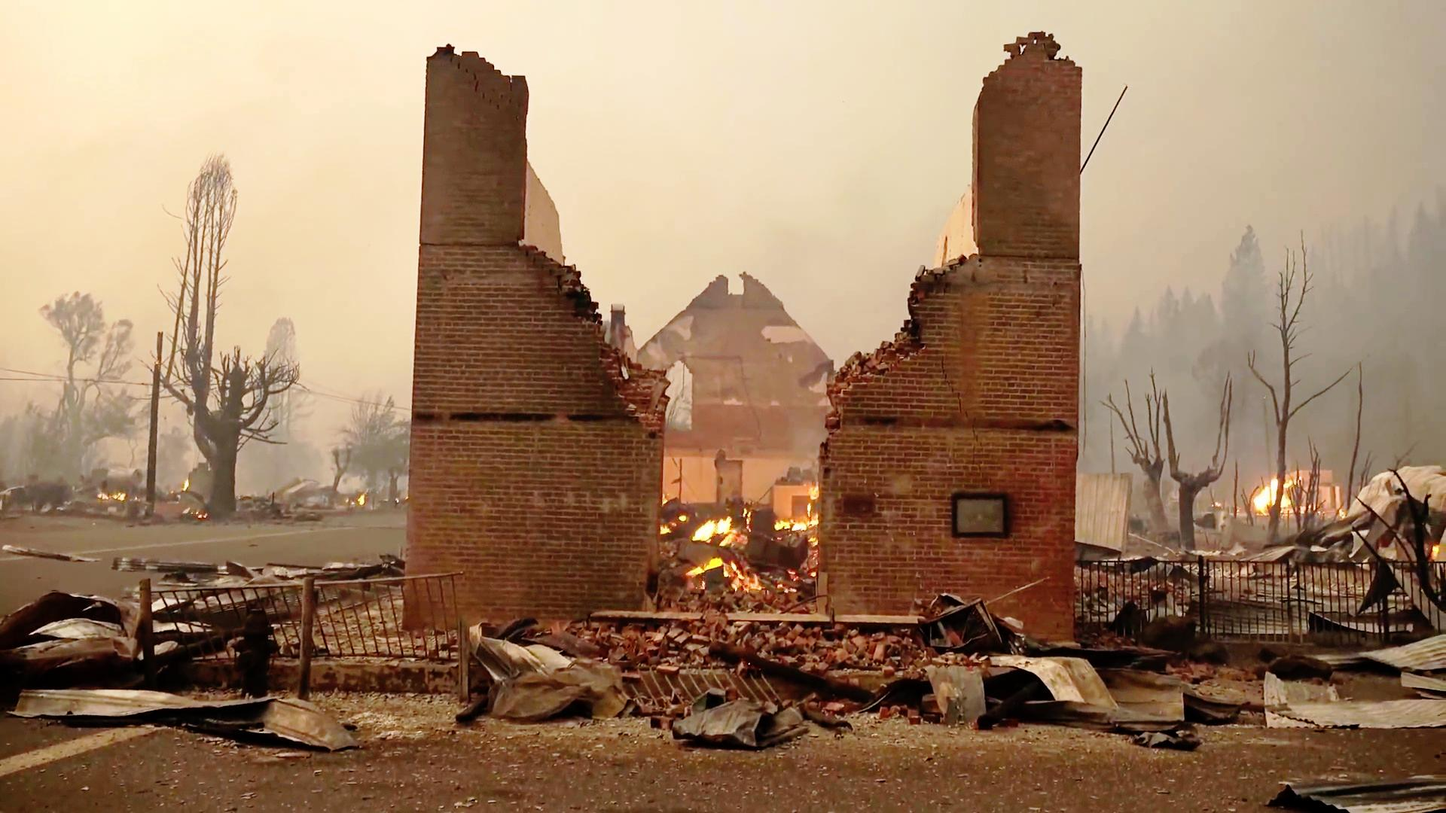fire: (1283, 448, 1337, 517)
smoke: (682, 20, 906, 198), (0, 0, 192, 174)
